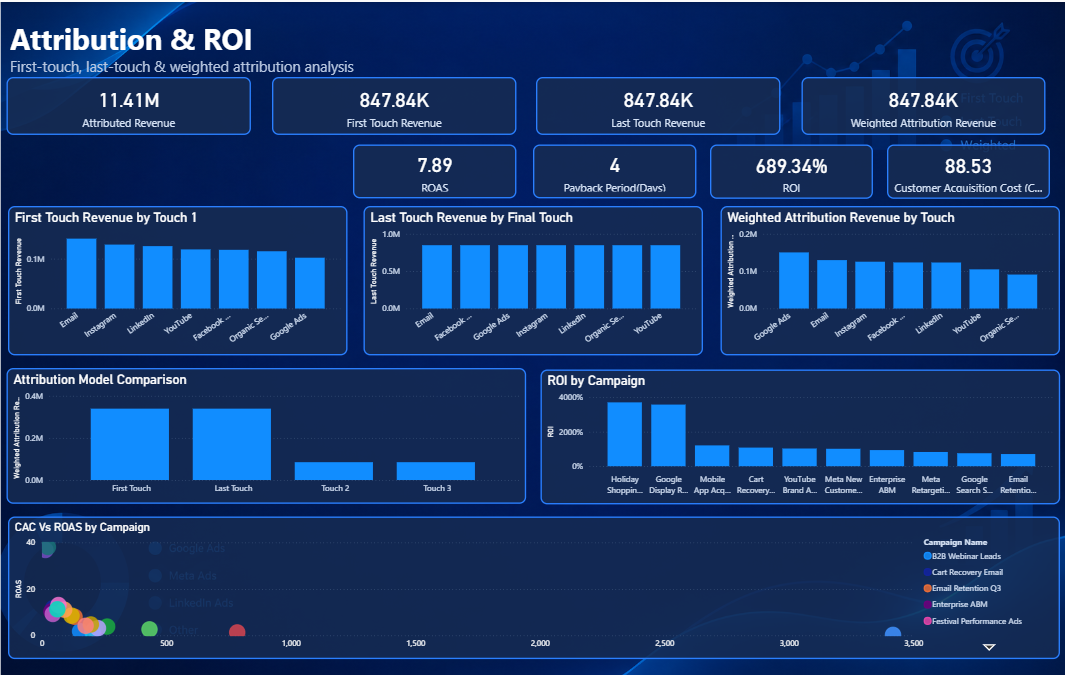

Layout of this report page (visuals, bound fields, positions):
{"tool":"powerbi","page":{"name":"Attribution & ROI","canvas":[1600,1000],"ordinal":2},"visuals":[{"type":"textbox","box":[24.9,19.9,649.8,72.2],"z":0},{"type":"textbox","box":[24.9,74.7,649.8,54.8],"z":1000},{"type":"card","fields":{"Values":["Sum(campaign_performance.Revenue)"]},"box":[25,110,360,85],"z":2000},{"type":"card","fields":{"Values":["leads_customers.First Touch Revenue"]},"box":[415,110,360,85],"z":3000},{"type":"card","fields":{"Values":["leads_customers.Last Touch Revenue"]},"box":[805,110,360,85],"z":4000},{"type":"clusteredColumnChart","title":"First Touch Revenue by Touch 1","fields":{"Category":["leads_customers.Touch_1"],"Y":["leads_customers.First Touch Revenue"]},"box":[26,300,500,220],"z":5000},{"type":"clusteredColumnChart","title":"Last Touch Revenue by Final Touch","fields":{"Category":["leads_customers.Final_Touch"],"Y":["leads_customers.Last Touch Revenue"]},"box":[550,300,500,220],"z":6000},{"type":"clusteredColumnChart","fields":{"Category":["Attribution.Touch"],"Y":["Attribution.Weighted Attribution Revenue"]},"box":[1075,300,500,220],"z":7000},{"type":"clusteredColumnChart","title":"Attribution Model Comparison","fields":{"Category":["Attribution.Attribution_Type"],"Y":["Attribution.Weighted Attribution Revenue"]},"box":[25,540,765,200],"z":8000},{"type":"card","fields":{"Values":["campaign_performance.ROAS"]},"box":[534.6,209.9,240.8,79.5],"z":9000},{"type":"card","fields":{"Values":["campaign_performance.ROI"]},"box":[1060,210,240,80],"z":10000},{"type":"card","fields":{"Values":["campaign_performance.CAC"]},"box":[1320,210,240,80],"z":11000},{"type":"clusteredColumnChart","title":"ROI by Campaign ","fields":{"Category":["campaign_performance.Campaign_Name"],"Y":["campaign_performance.ROI"]},"box":[810.2,540.9,765.4,198.4],"z":12000},{"type":"card","fields":{"Values":["Attribution.Weighted Attribution Revenue"]},"box":[1195,110,359.1,85],"z":13000},{"type":"scatterChart","title":"CAC Vs ROAS by Campaign","fields":{"X":["campaign_performance.CAC"],"Y":["campaign_performance.ROAS"],"Series":["campaign_performance.Campaign_Name"]},"box":[26,758.3,1549.6,210.2],"z":14000},{"type":"card","fields":{"Values":["campaign_performance.Payback Period(Days)"]},"box":[799.7,209.9,240.8,79.5],"z":15000}]}

Visuals, with their boxes in screenshot pixels (x1, y1, x2, y2), scaled from the page's 1600x1000 canvas onto the 1065x675 screenshot:
textbox: locate(17, 13, 449, 62)
textbox: locate(17, 50, 449, 87)
card - Sum(campaign_performance.Revenue): locate(17, 74, 256, 132)
card - leads_customers.First Touch Revenue: locate(276, 74, 516, 132)
card - leads_customers.Last Touch Revenue: locate(536, 74, 775, 132)
"First Touch Revenue by Touch 1" clusteredColumnChart: locate(17, 202, 350, 351)
"Last Touch Revenue by Final Touch" clusteredColumnChart: locate(366, 202, 699, 351)
clusteredColumnChart - Attribution.Touch x Attribution.Weighted Attribution Revenue: locate(716, 202, 1048, 351)
"Attribution Model Comparison" clusteredColumnChart: locate(17, 364, 526, 500)
card - campaign_performance.ROAS: locate(356, 142, 516, 195)
card - campaign_performance.ROI: locate(706, 142, 865, 196)
card - campaign_performance.CAC: locate(879, 142, 1038, 196)
"ROI by Campaign " clusteredColumnChart: locate(539, 365, 1049, 499)
card - Attribution.Weighted Attribution Revenue: locate(795, 74, 1034, 132)
"CAC Vs ROAS by Campaign" scatterChart: locate(17, 512, 1049, 654)
card - campaign_performance.Payback Period(Days): locate(532, 142, 693, 195)
